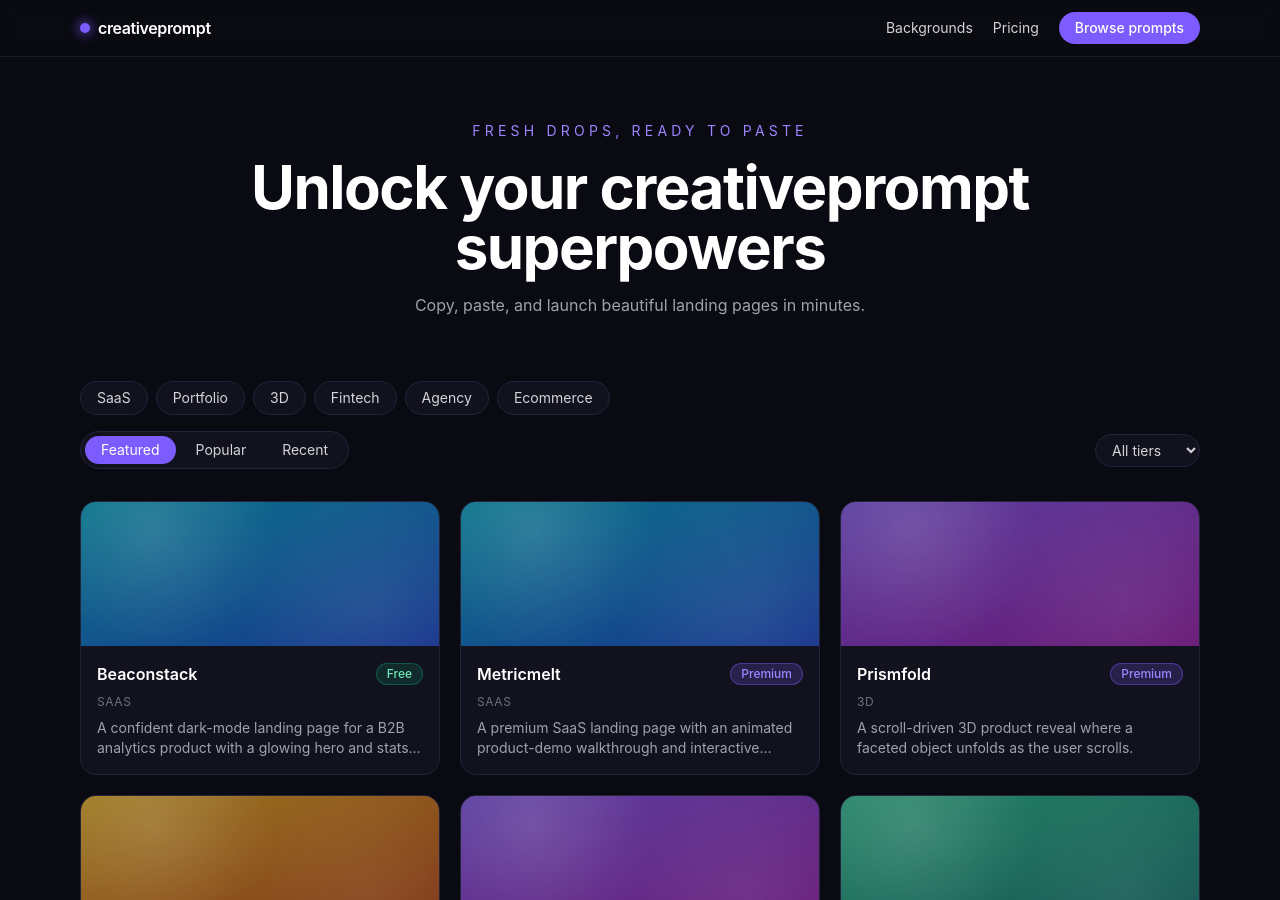
Test: Home › nav link to /pricing shows Free and Premium tiers with prices
The image size is (1280, 900).
What coordinates should you click on to do the following:
click the link with test id "nav-pricing"
I would click on:
 (1016, 28)
Its box is [993,18,1039,38].
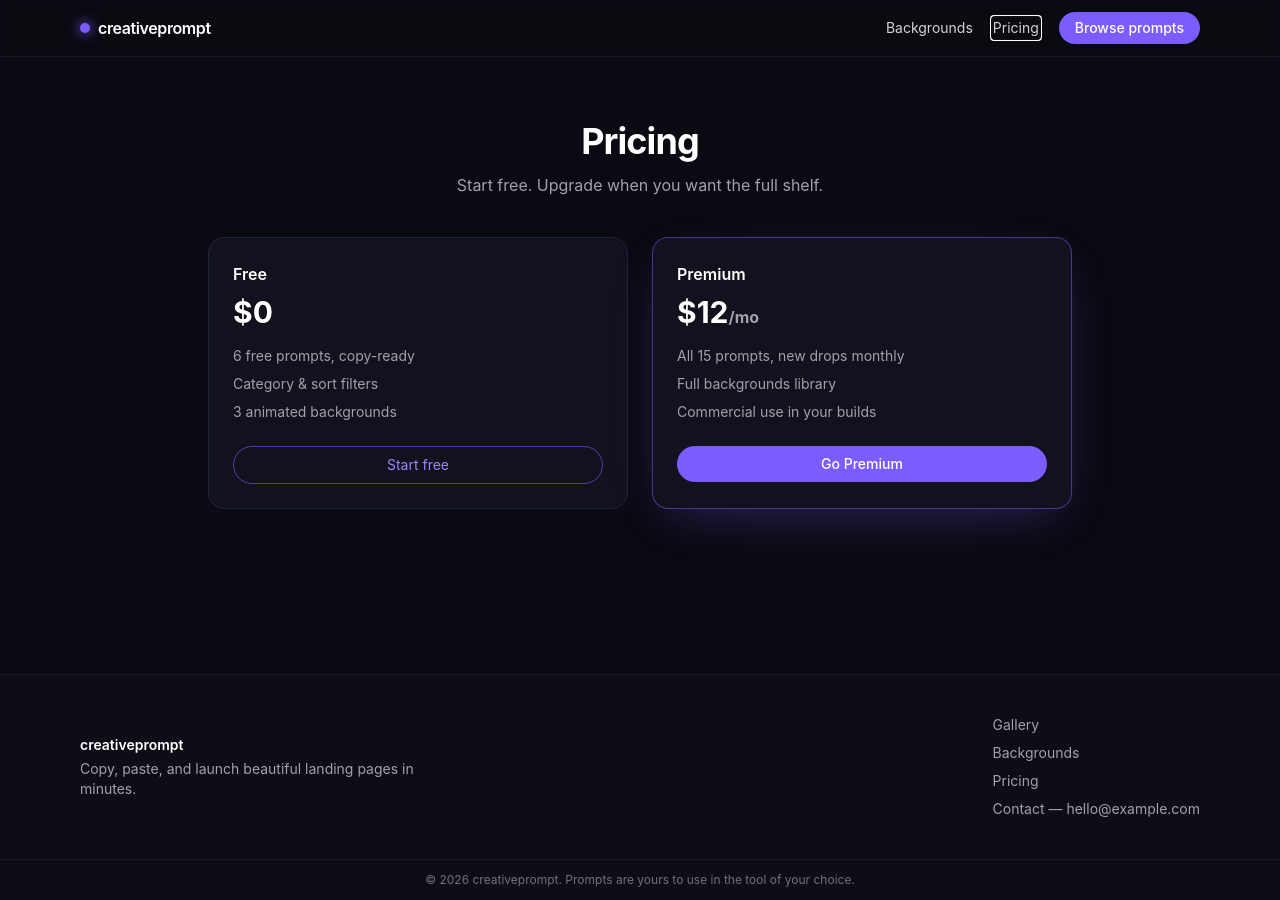
Expected: the heading "Free" is shown, [233,264,267,284]
Expected: the text "$12/mo" is shown, [677,294,759,330]
